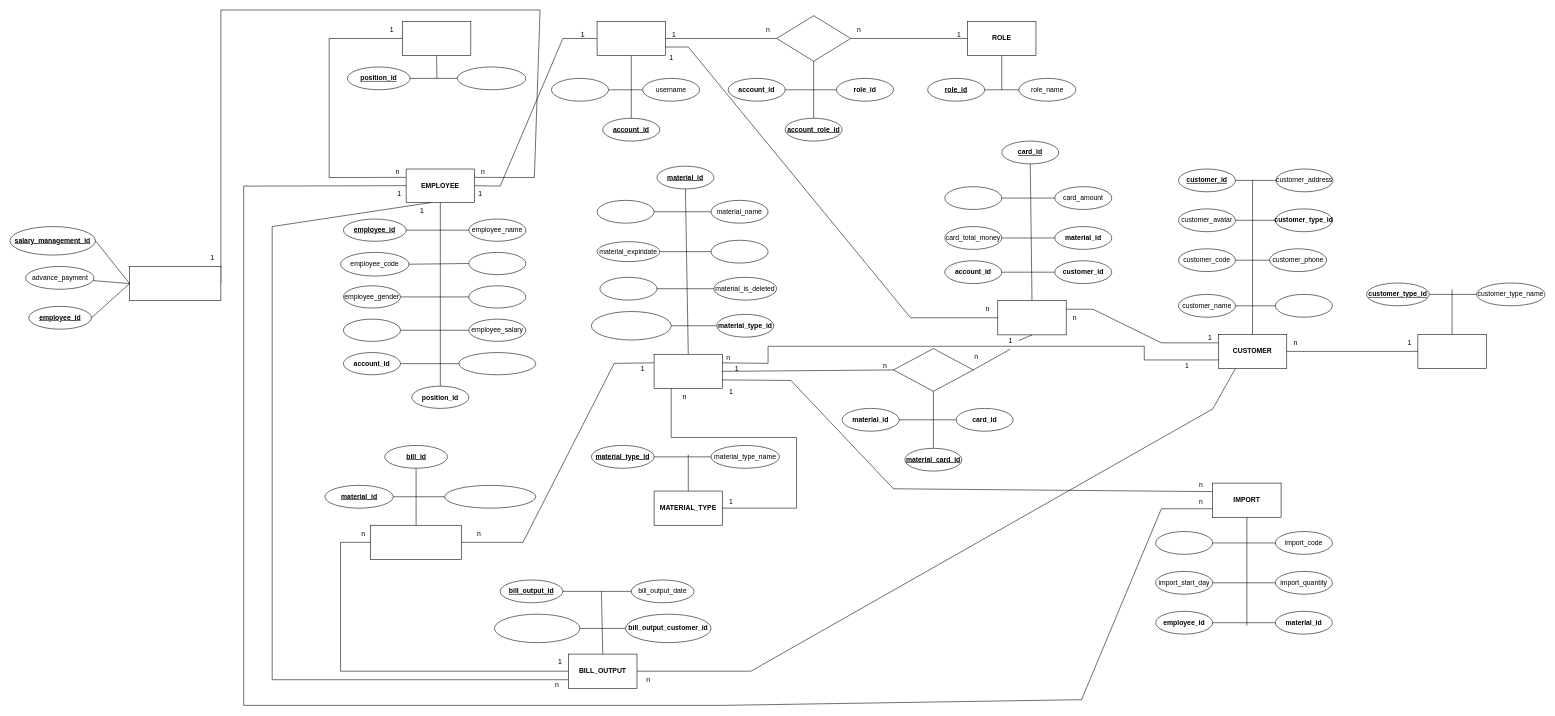
This 1555x716 diagram has some shape labels left out. The centre of each missing label's shape, as x and y in pixels:
"ACCOUNT" belongs at (631,38).
"ACCOUNT_ROLE" belongs at (813,38).
"bill_ouput_employee_id" belongs at (537,628).
"BILL_OUTPUT_MATERIAL" belongs at (416,542).
"bill_output_material_name" belongs at (490,496).
"CARD" belongs at (1031,317).
"card_status" belongs at (973,197).
"customer_email" belongs at (1303,305).
"CUSTOMER_TYPE" belongs at (1451,351).
"employee_address" belongs at (497,296).
"employee_avatar" belongs at (497,263).
"employee_date_of_birth" belongs at (497,363).
"employee_phone" belongs at (371,330).
"import_id" belongs at (1184,542).
"MATERIAL" belongs at (688,371).
"MATERIAL_CARD" belongs at (933,369).
"material_code" belongs at (625,211).
"material_customer_id" belongs at (631,325).
"material_price" belongs at (739,251).
"material_unit" belongs at (628,288).
"password" belongs at (579,89).
"POSITION" belongs at (436,38).
"position_name" belongs at (491,78).
"SALARY_MANAGEMENT" belongs at (175,283).
